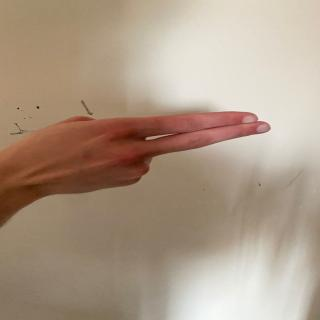AYN: (0, 96, 277, 210)
